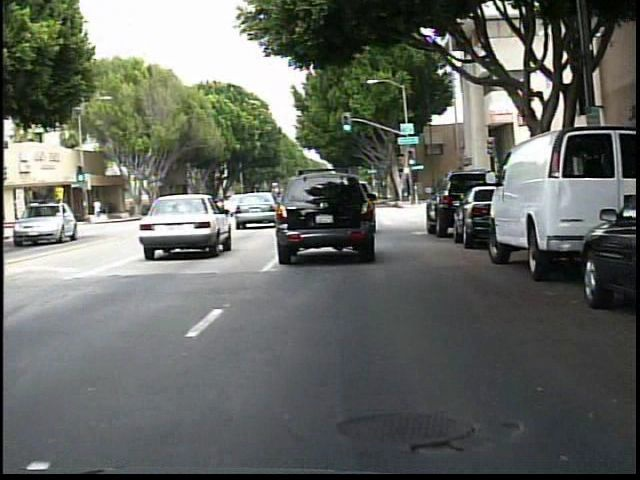person: (93, 198, 105, 221)
